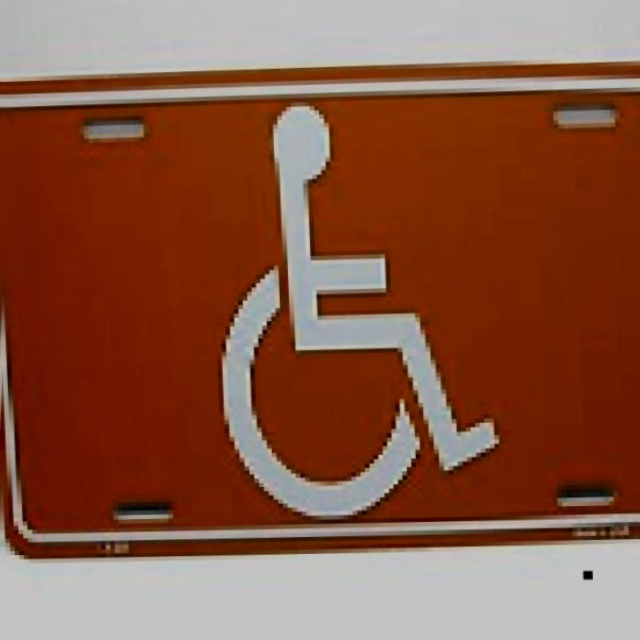ISA: (205, 95, 502, 522)
